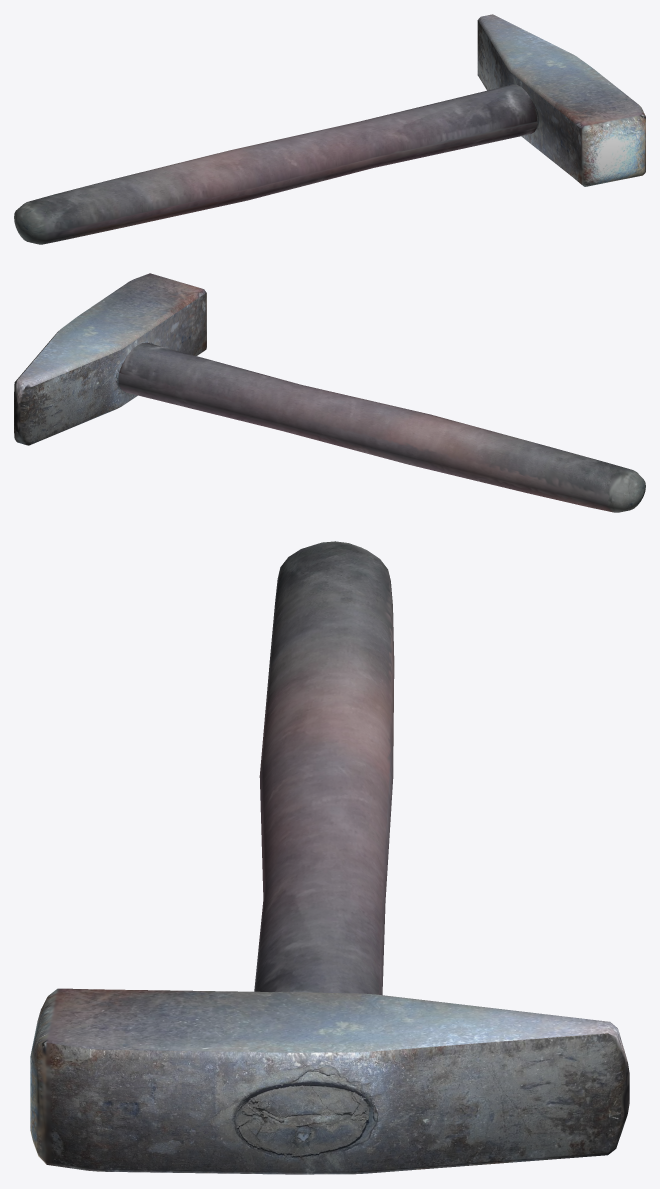
Rendered from Hammer.fbx.
3 renders of one model, top to bottom at view 1: azimuth 30°, elevation 25°; view 2: azimuth 150°, elevation 25°; view 3: azimuth 270°, elevation 25°, orthographic. The views are drawn at different scales.
Visible parts, largest first — view 1: Cylinder, Cube; view 2: Cylinder, Cube; view 3: Cube, Cylinder.
Part boxes in pixels (x1,y1,x2,y2): Cylinder: (14,84,537,244); Cube: (477,14,645,186); Cylinder: (118,342,645,512); Cube: (14,273,206,445); Cube: (30,988,629,1174); Cylinder: (254,541,394,995).
Size of the model in its own units: 8.15 by 0.8403 by 3.74.
Materials: 2 (2 with a texture image).
